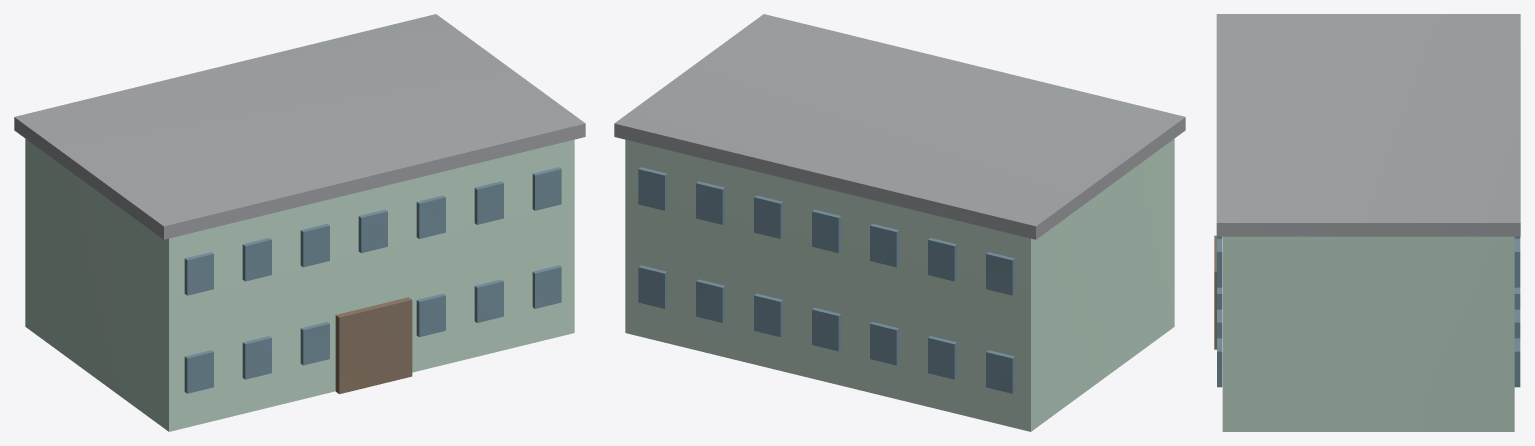
File: warehouse-02.glb
The picture shows the model from 3 angles, left to right: view 1: azimuth 30°, elevation 25°; view 2: azimuth 150°, elevation 25°; view 3: azimuth 270°, elevation 25°; orthographic projection.
Parts seen in each view (by area): view 1: world; view 2: world; view 3: world.
Boxes of the visible parts, x1=… form: world: x1=14, y1=14, x2=585, y2=431; world: x1=614, y1=14, x2=1185, y2=431; world: x1=1214, y1=14, x2=1520, y2=431.
Size of the model in its own units: 2.3 by 1.09 by 1.43.
